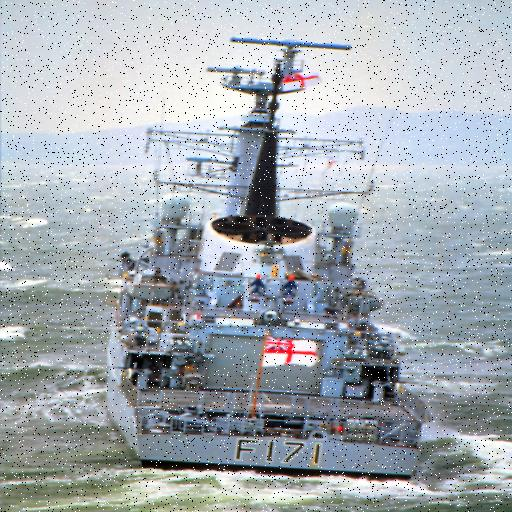Fragata: (104, 20, 461, 485)
